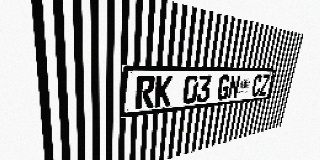0: (182, 75, 199, 104)
3: (196, 75, 212, 103)
C: (251, 75, 263, 97)
G: (216, 75, 231, 101)
K: (154, 75, 173, 108)
N: (227, 75, 241, 99)
R: (135, 76, 156, 110)
Z: (259, 75, 270, 96)
